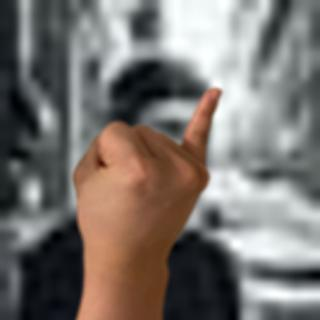FINE: (68, 83, 226, 268)
